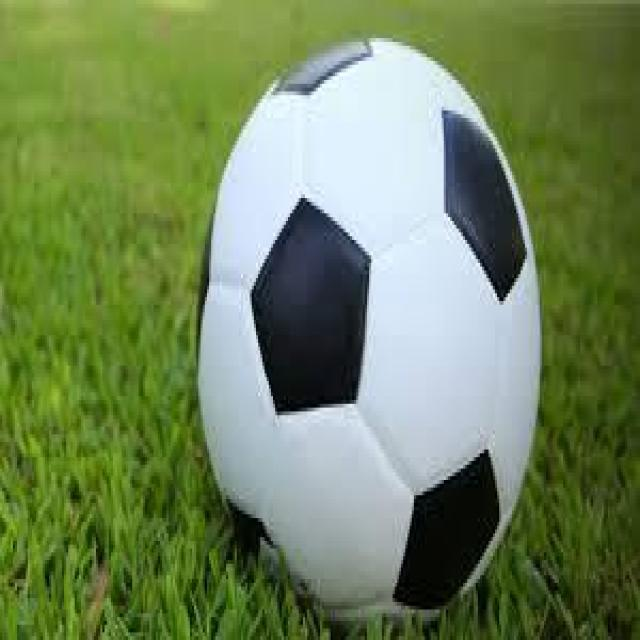Soccer Ball: (200, 38, 542, 625)
